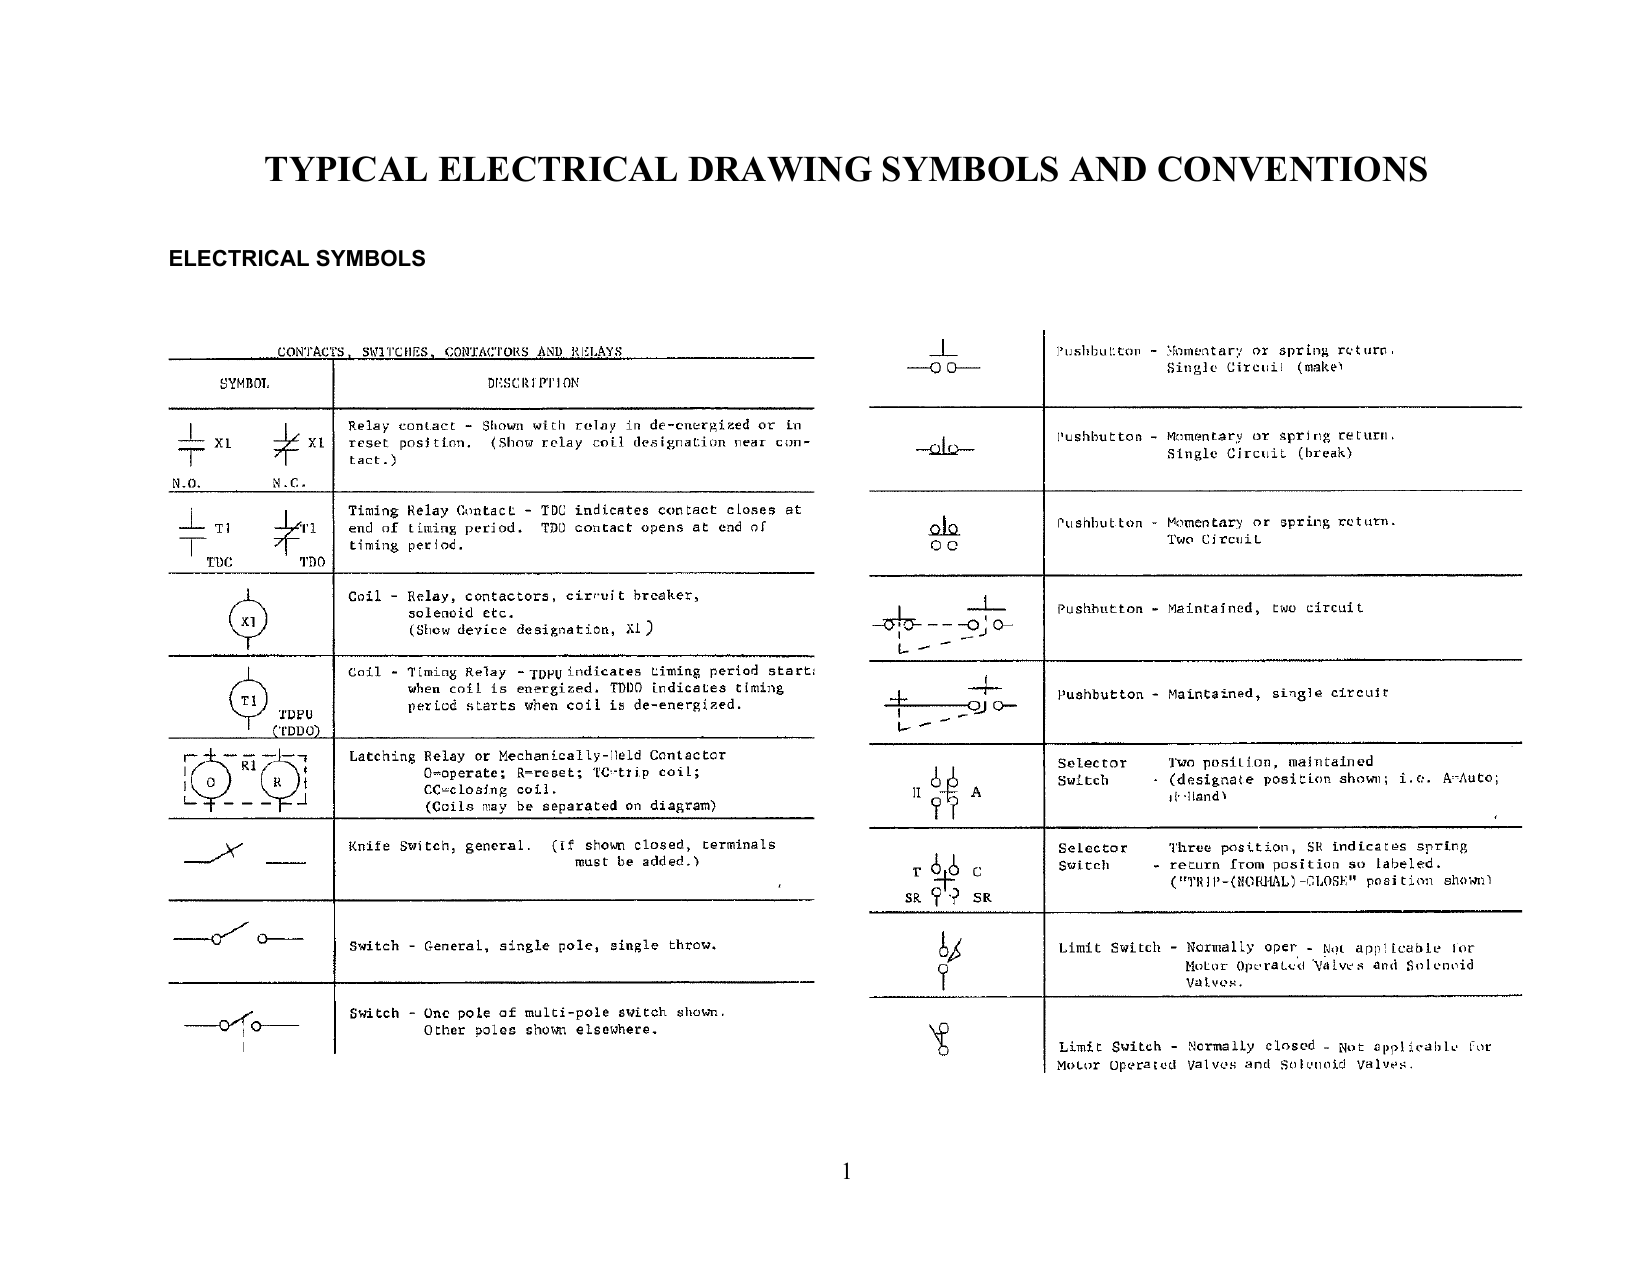switch: (153, 834, 324, 887), (161, 917, 327, 971), (153, 1004, 319, 1055), (901, 1007, 975, 1062)
